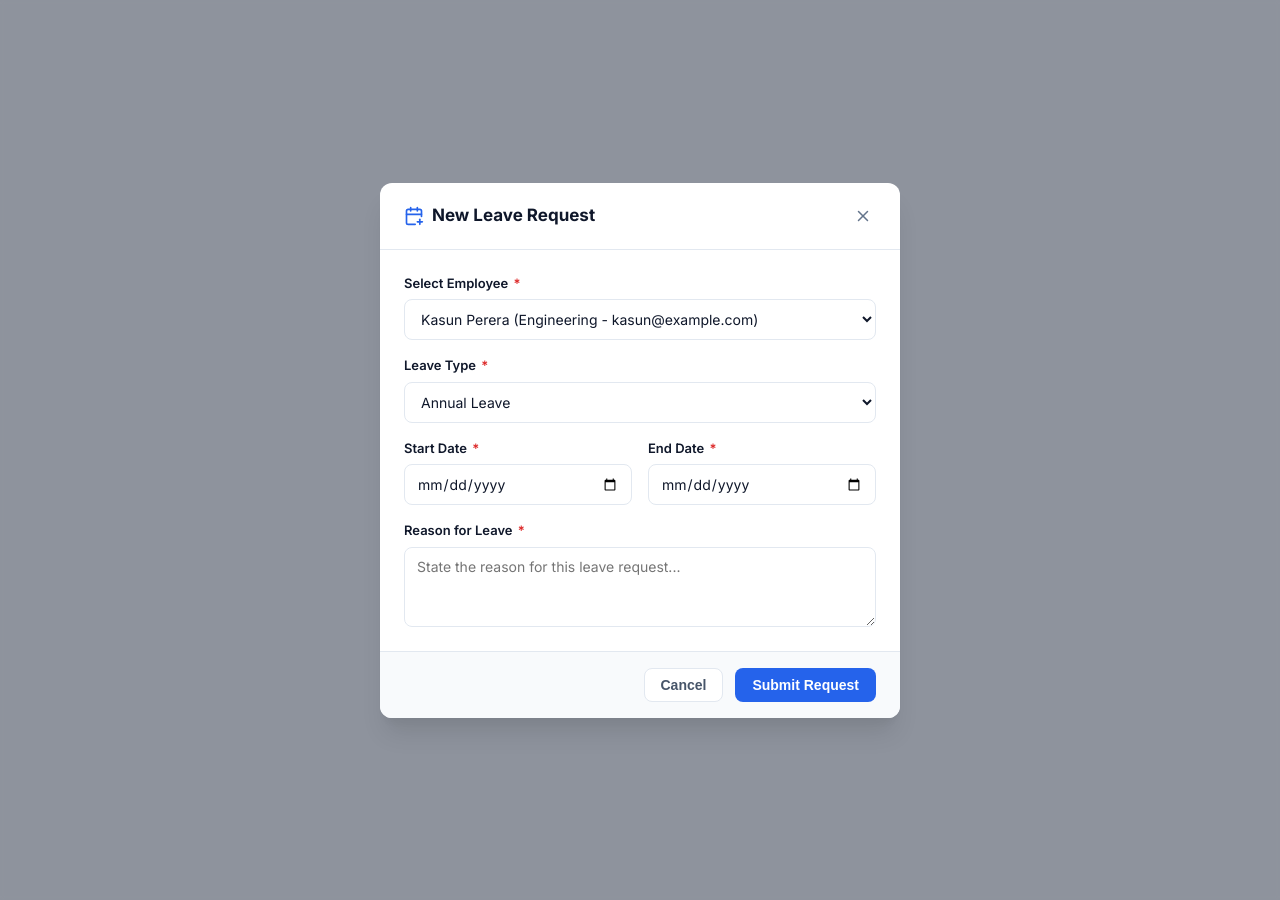
it: Frontend Component & Form Tests › LeaveModal Form Validation › validates that end date cannot be earlier than start date
In the date field labelled "Start Date *": (518, 484) [404,464,632,505], type "2026-11-10"
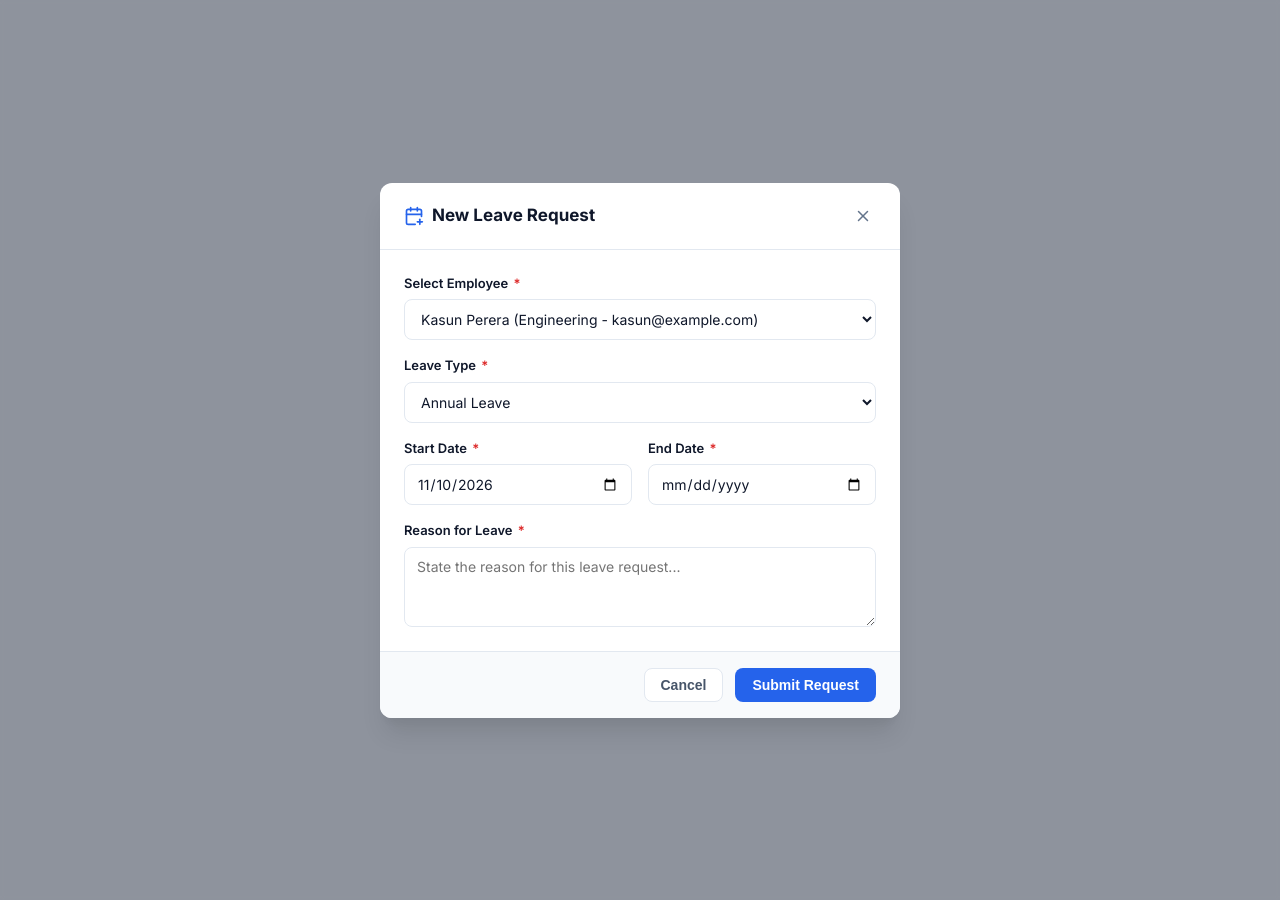
In the date field labelled "End Date *": (762, 484) [648,464,876,505], type "2026-11-05"
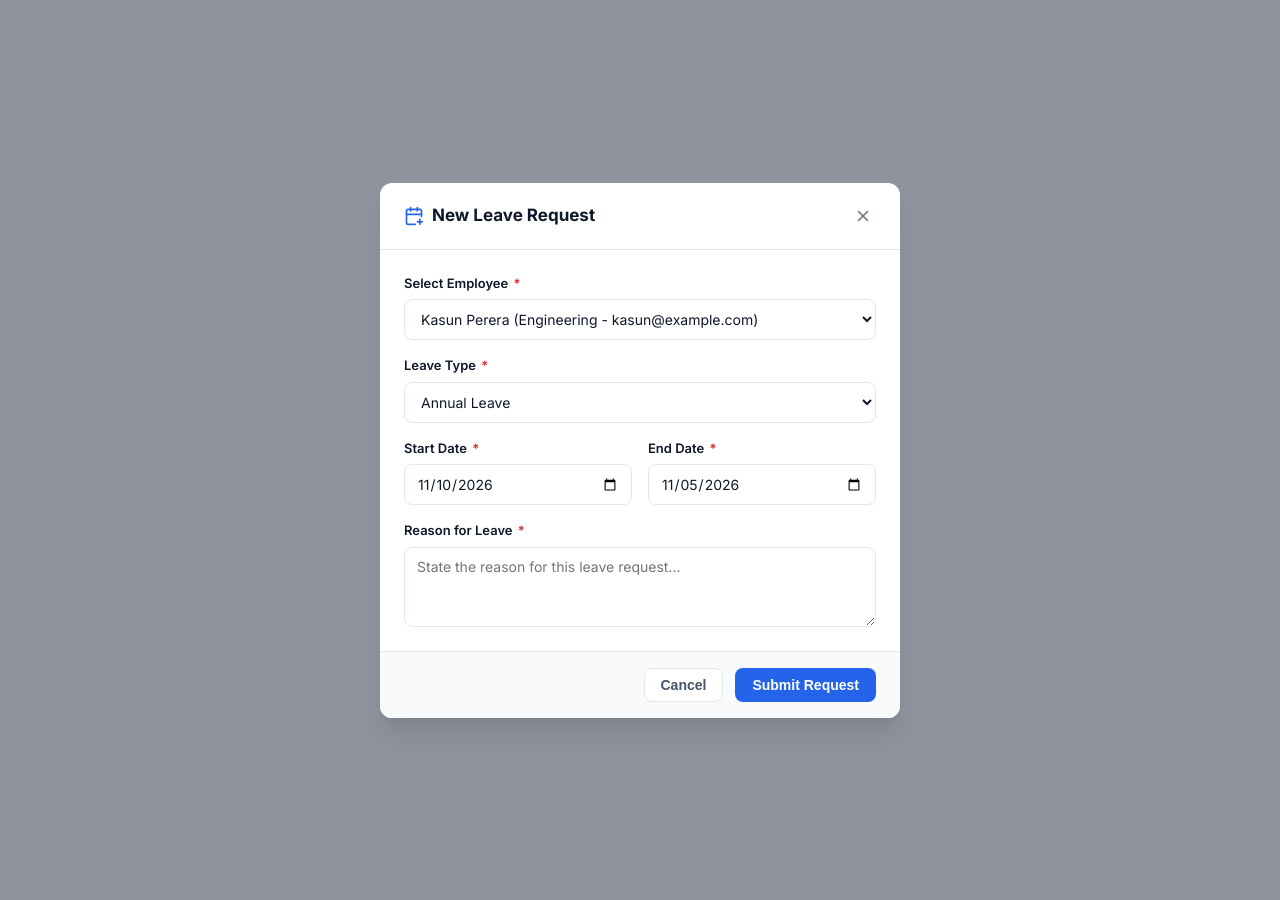
In the text box labelled "Reason for Leave *": (640, 586) [404,546,876,626], type "Vacation"
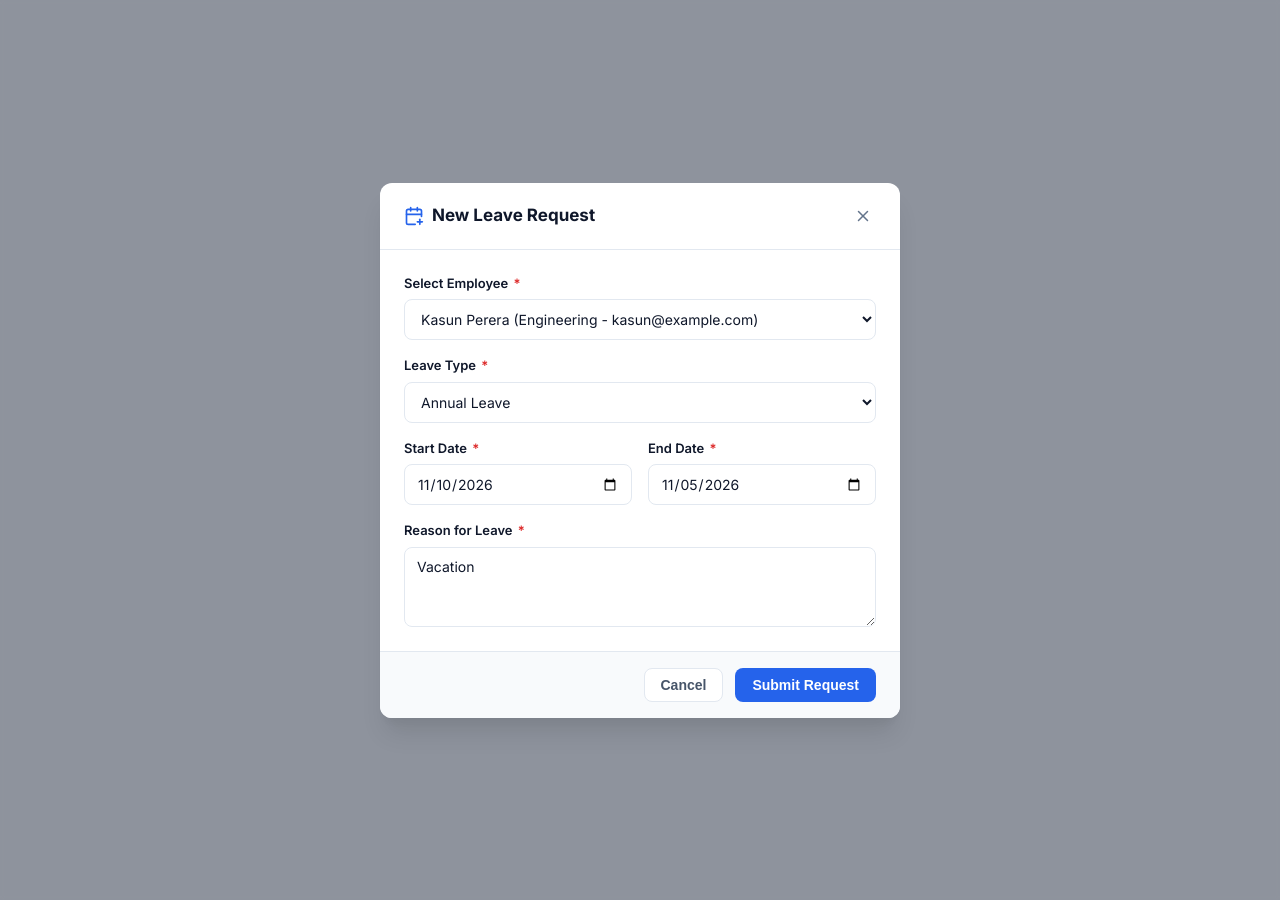
Click the button "Submit Request": (806, 684) [735,668,876,702]
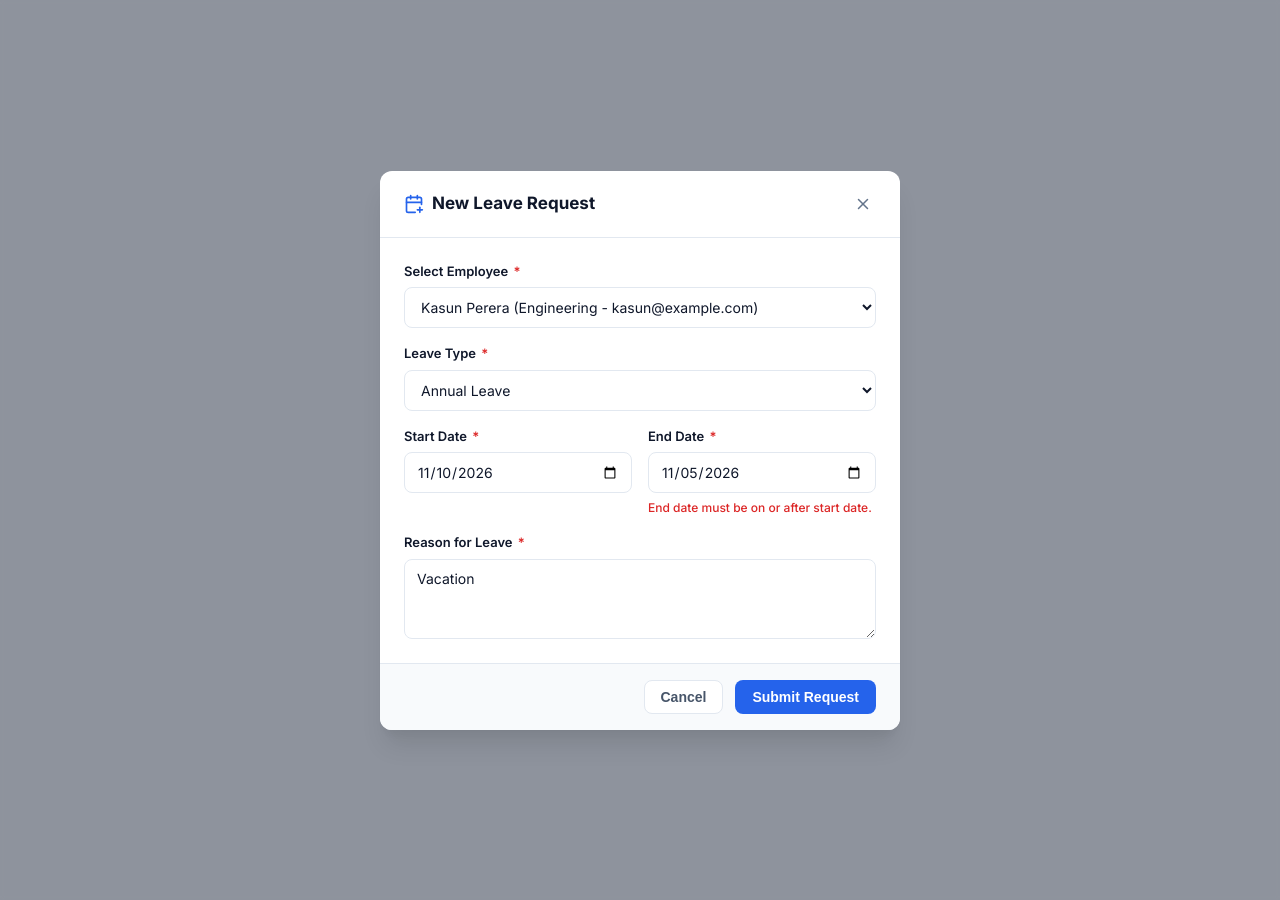
expect the text "End date must be on or after start date." is shown: met, box [648,499,876,517]
